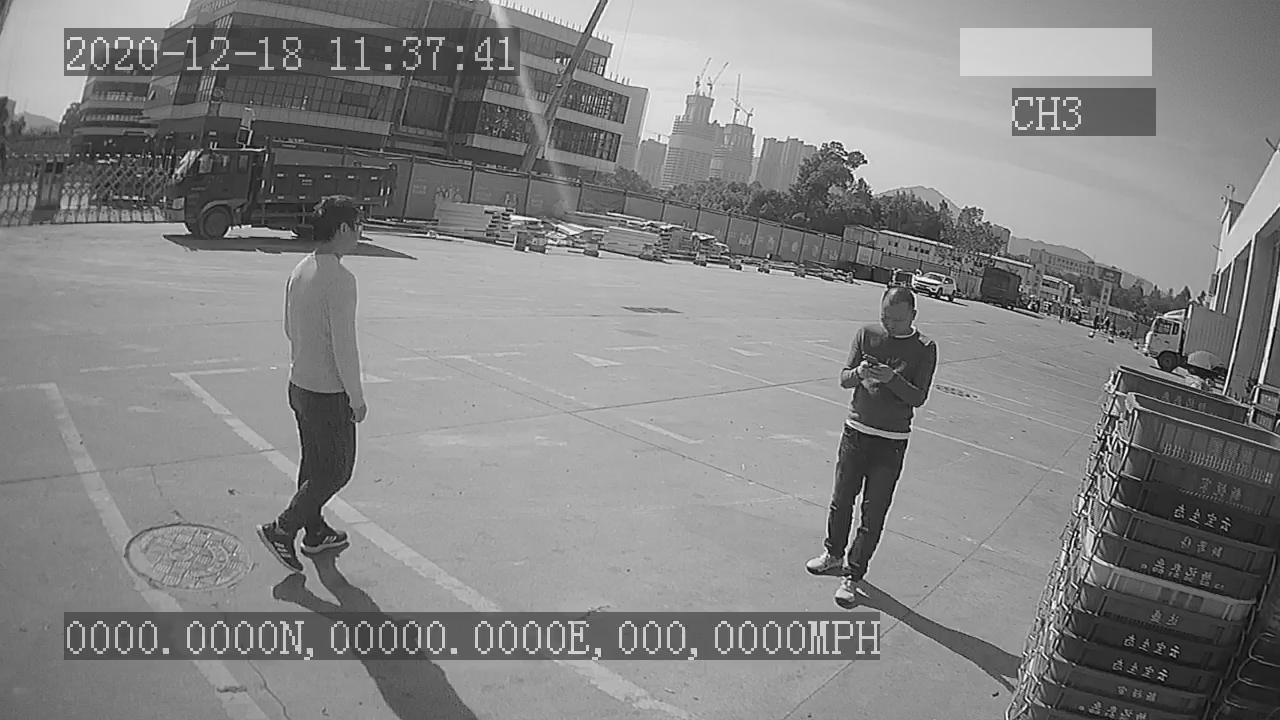person: (804, 280, 940, 606)
